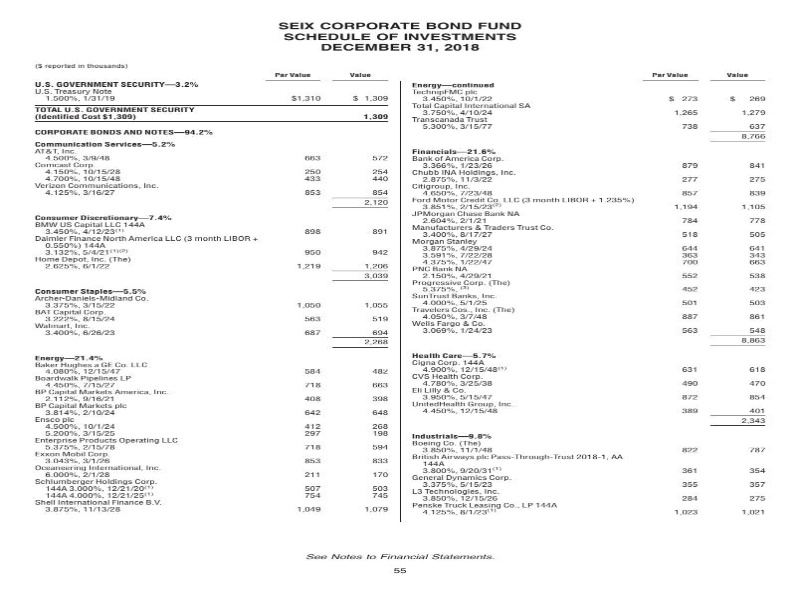table: (27, 54, 408, 540), (393, 67, 787, 531)
